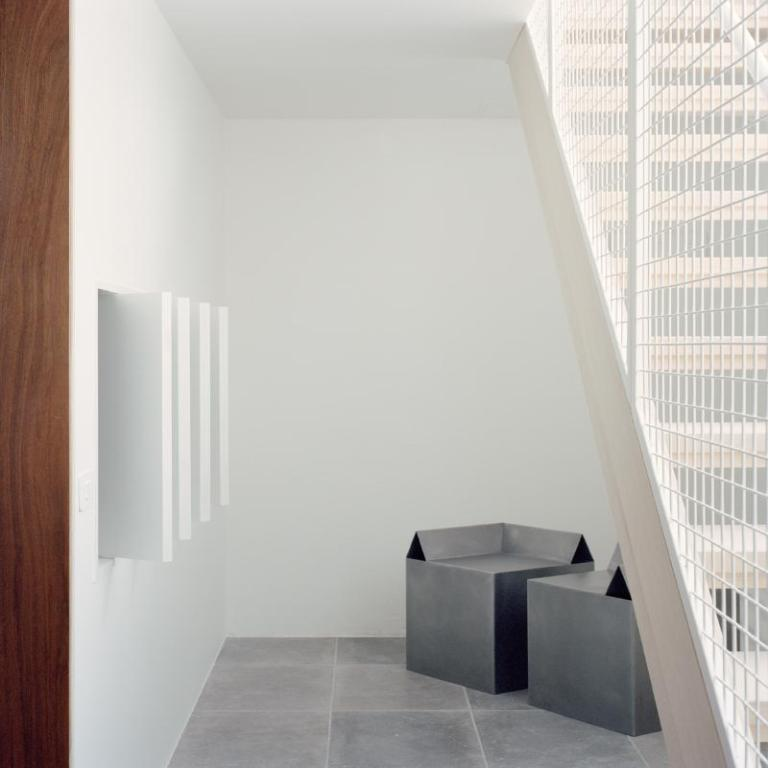white-walls: (238, 131, 577, 627)
